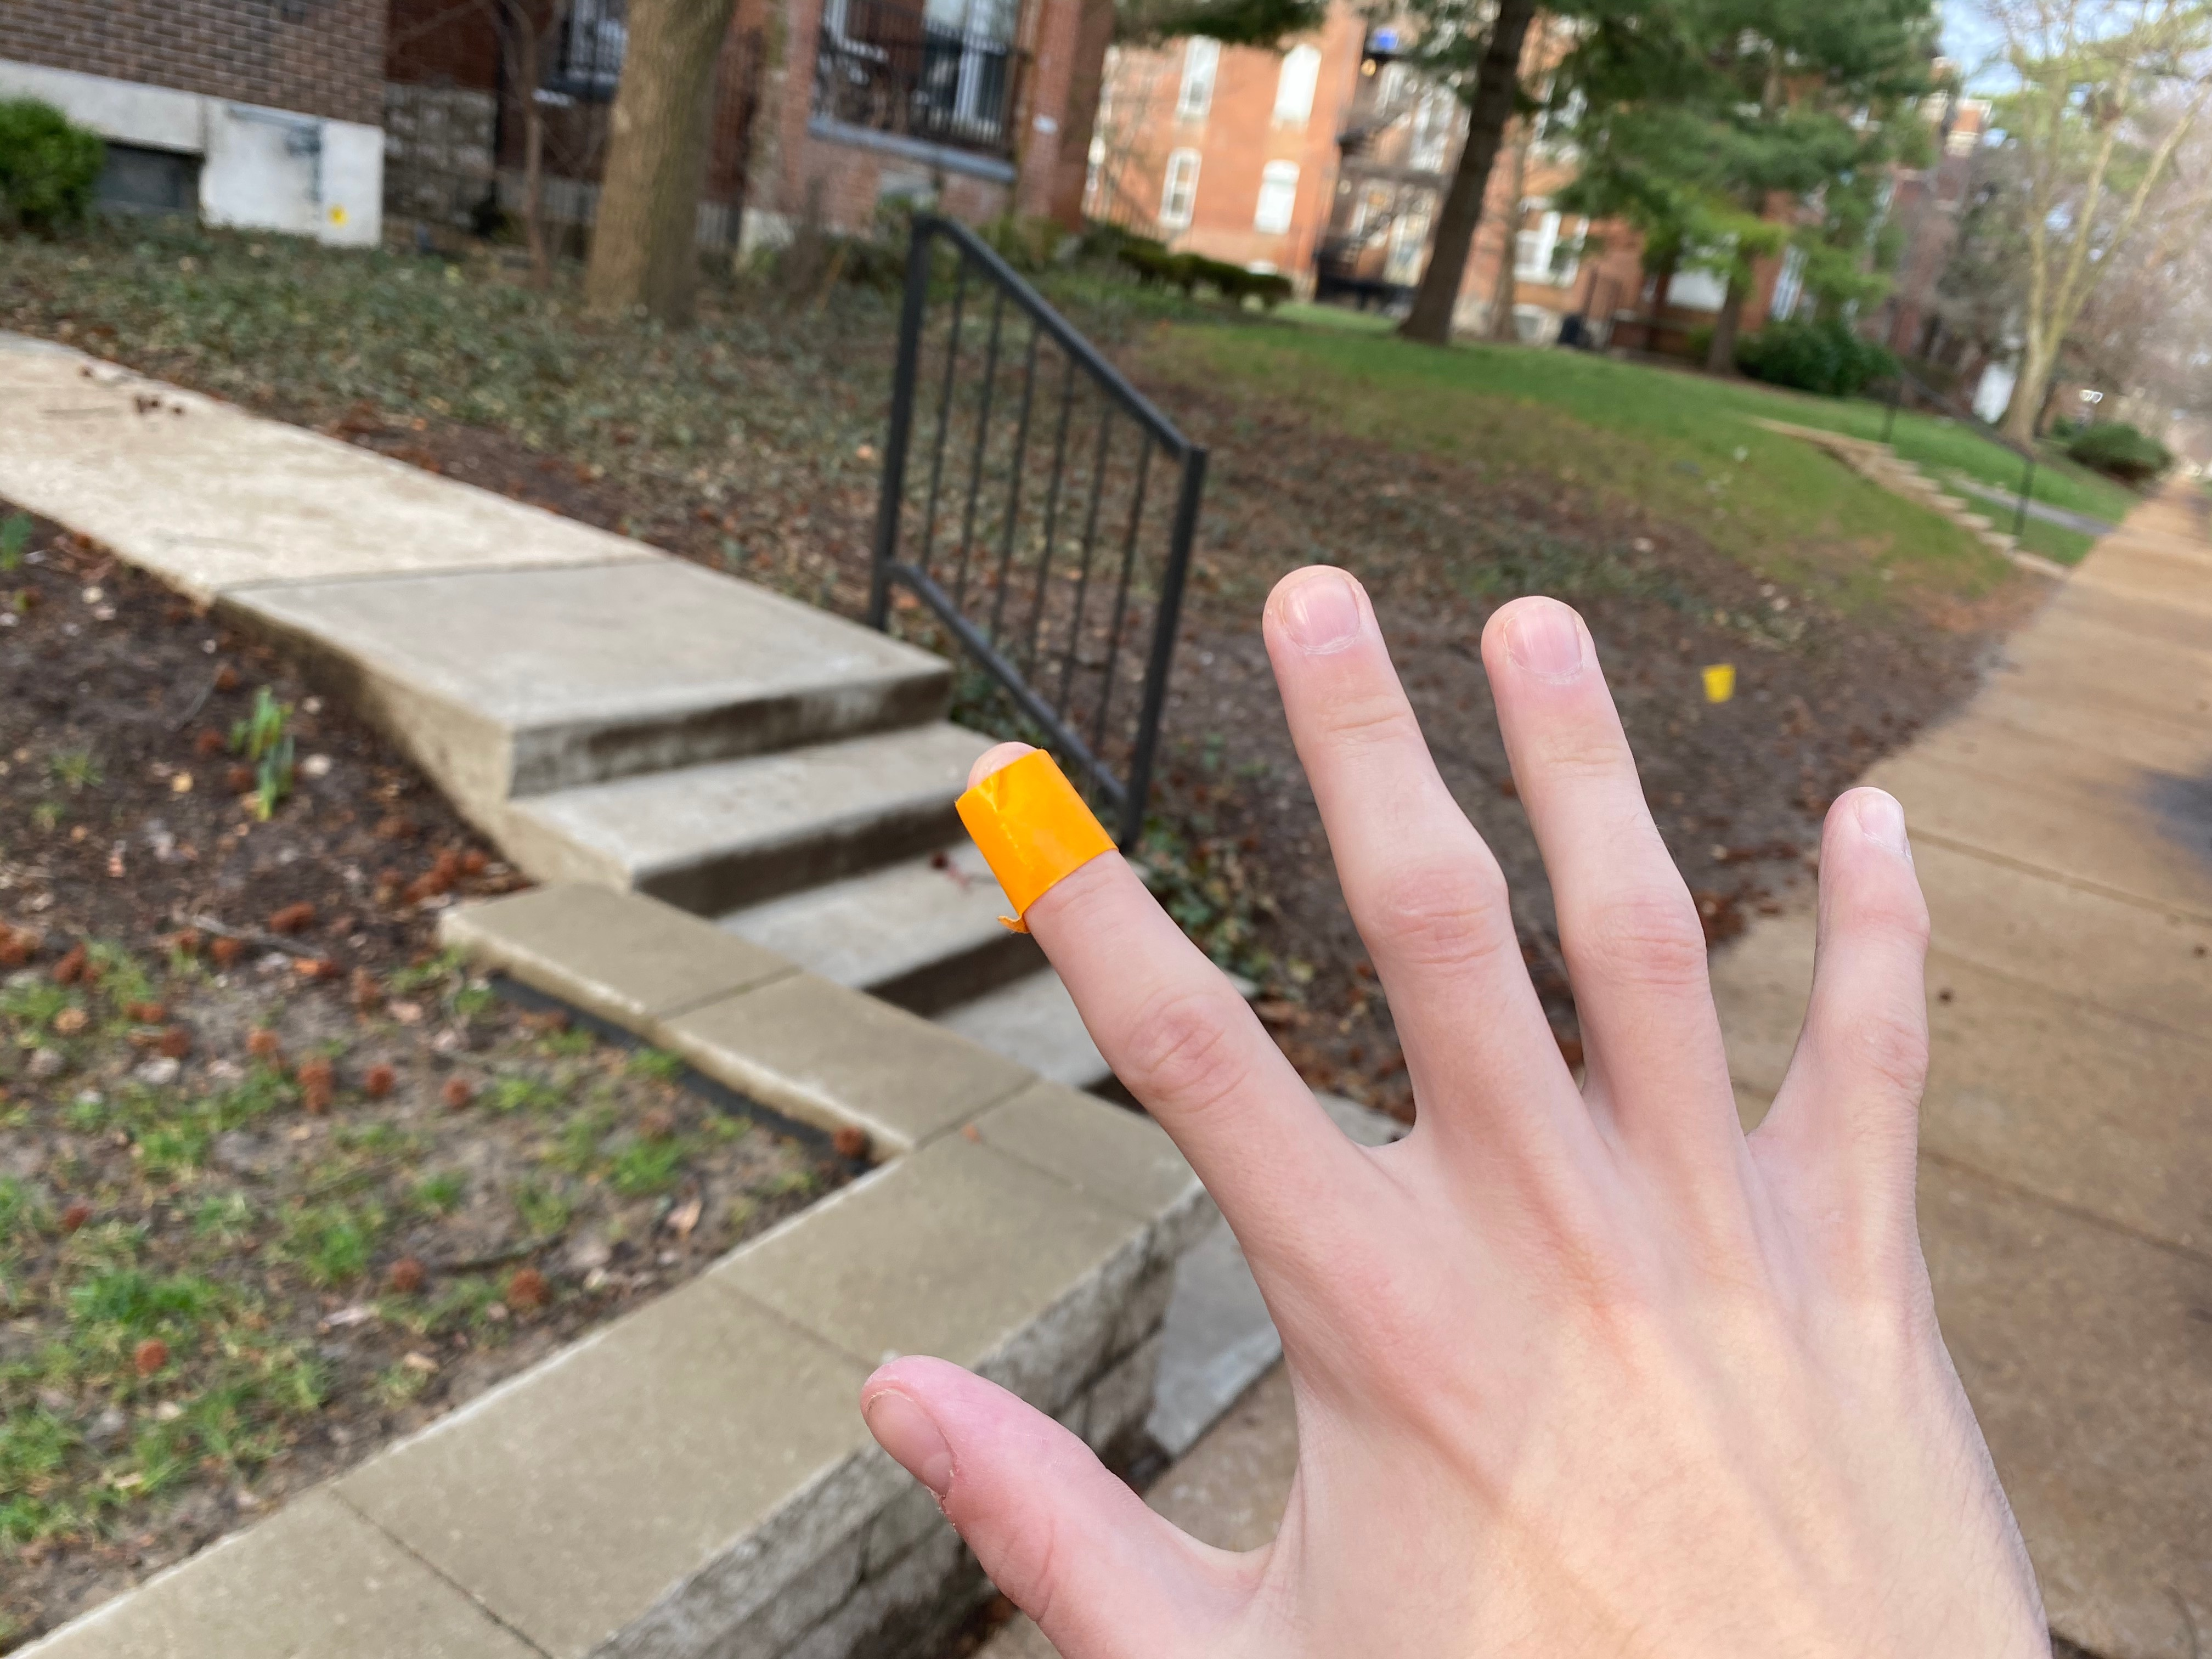fingertip: (921, 725, 1200, 974)
